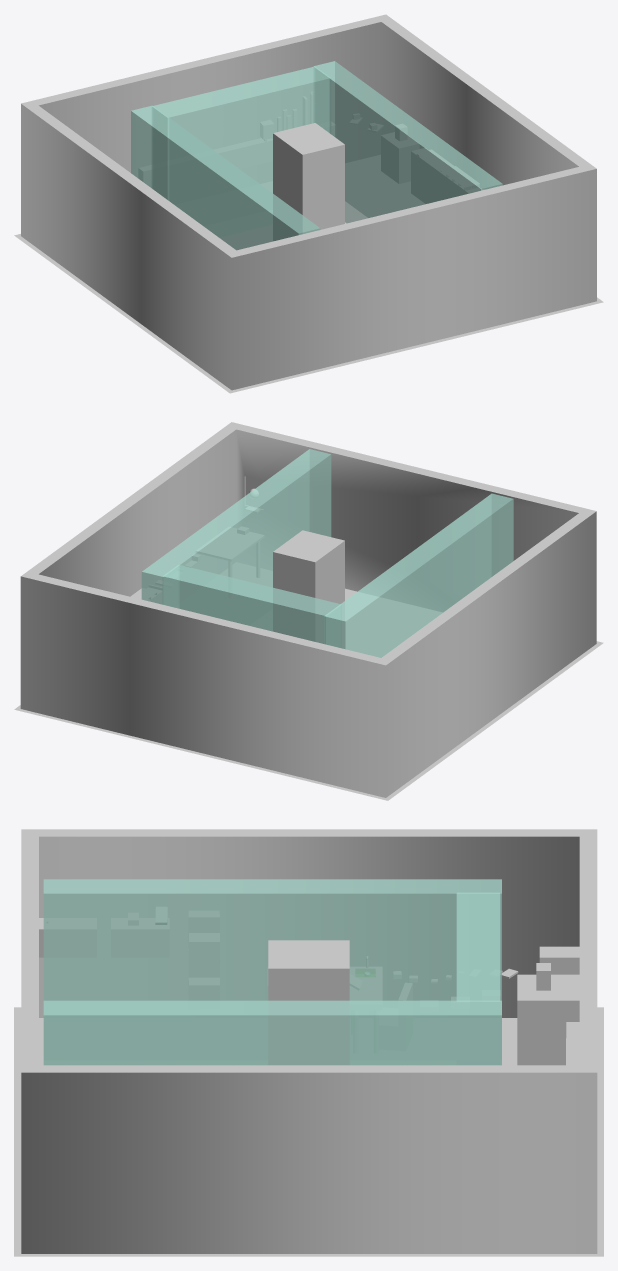
File: Lvl1.FBX
3 renders of one model, top to bottom at view 1: azimuth 30°, elevation 25°; view 2: azimuth 150°, elevation 25°; view 3: azimuth 270°, elevation 25°, orthographic. The views are drawn at different scales.
Visible parts, largest first — view 1: Tube003, Box042, Box069, Box041, Box045, Plane001, Box053, Box015, Box012; view 2: Tube003, Box069, Box041, Box042, Plane001, Box045, Box075; view 3: Tube003, Box041, Box069, Box045, Box042, Plane001, Box050, Box005, Box003, Box039, Box046, Box006 (+1 smaller).
Boxes of the visible parts, box(x1,y1,x2,y2) form: Tube003: box(21, 14, 596, 390); Box042: box(152, 66, 330, 236); Box069: box(313, 61, 502, 223); Box041: box(131, 105, 320, 250); Box045: box(273, 123, 344, 240); Plane001: box(14, 155, 603, 393); Box053: box(411, 148, 481, 203); Box015: box(139, 122, 335, 187); Box012: box(381, 132, 418, 183); Tube003: box(20, 422, 596, 797); Box069: box(141, 449, 331, 630); Box041: box(324, 493, 513, 657); Box042: box(163, 565, 341, 647); Plane001: box(14, 562, 603, 800); Box045: box(273, 530, 344, 648); Box075: box(196, 527, 263, 560); Tube003: box(21, 829, 597, 1253); Box041: box(43, 879, 501, 1064); Box069: box(43, 1000, 501, 1065); Box045: box(268, 940, 349, 1064); Box042: box(456, 892, 500, 1064); Plane001: box(14, 1007, 603, 1256); Box050: box(517, 974, 579, 1065); Box005: box(189, 911, 219, 1000); Box003: box(39, 918, 96, 957); Box039: box(111, 918, 168, 956); Box046: box(539, 946, 579, 974); Box006: box(350, 967, 381, 1000).
Bounding box in the file's own units: 4648 × 1599 × 4648.
